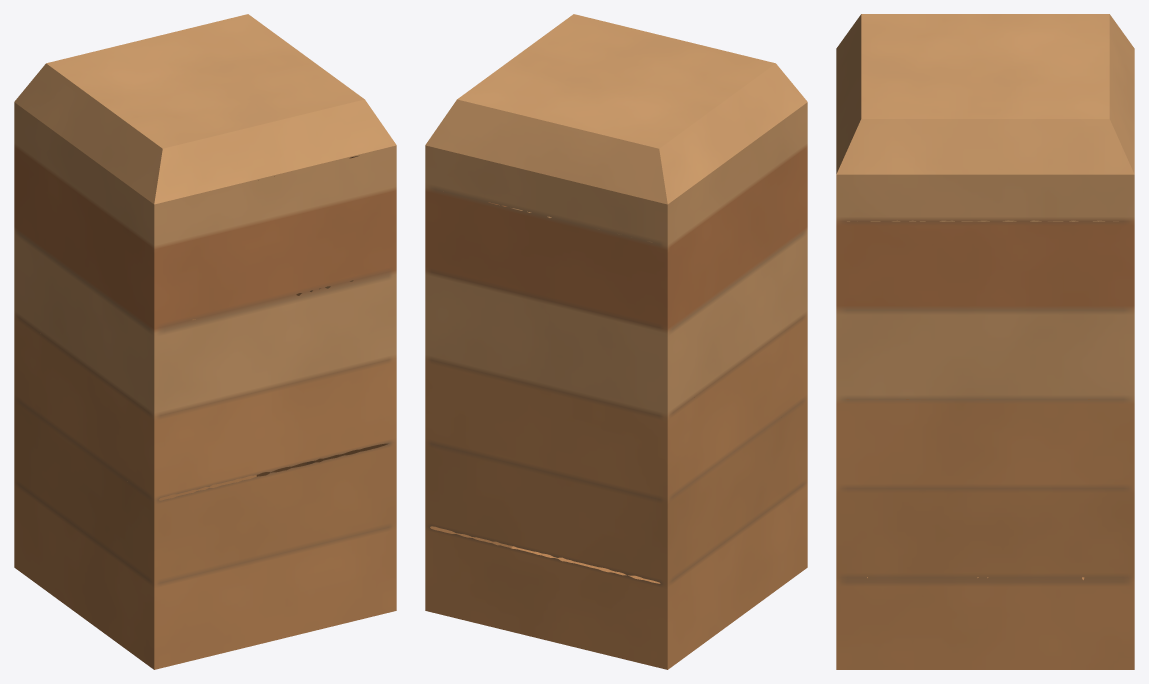
3 views of the same model, side by side, from view 1: azimuth 30°, elevation 25°; view 2: azimuth 150°, elevation 25°; view 3: azimuth 270°, elevation 25° (orthographic). The views are drawn at different scales.
Visible parts, largest first — view 1: ss16-sandstone-gatepost; view 2: ss16-sandstone-gatepost; view 3: ss16-sandstone-gatepost.
Part boxes in pixels (x1,y1,x2,y2): ss16-sandstone-gatepost: [14, 14, 396, 669]; ss16-sandstone-gatepost: [425, 14, 807, 669]; ss16-sandstone-gatepost: [836, 14, 1134, 669].
Bounding box in the file's own units: 75 × 150 × 75.
